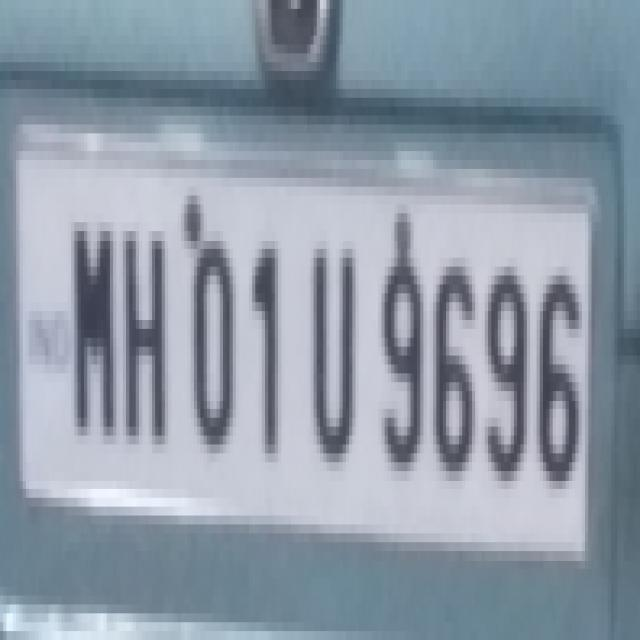0: (190, 228, 234, 460)
1: (245, 240, 282, 464)
6: (430, 256, 478, 482), (538, 264, 584, 488)
9: (483, 260, 532, 494), (376, 252, 424, 474)
H: (122, 223, 174, 450)
M: (66, 216, 117, 446)
U: (310, 228, 360, 471)
